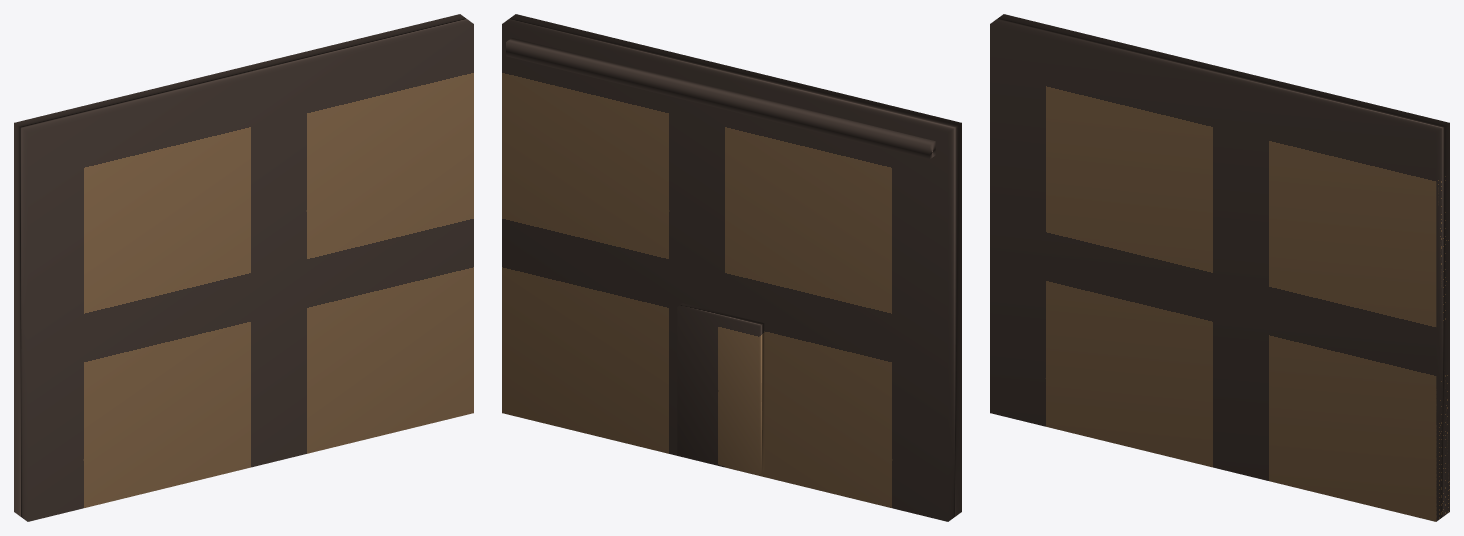
File: SM_Env_CairoFacade_A_LOD2.obj
3 views of the same model, side by side, from view 1: azimuth 30°, elevation 25°; view 2: azimuth 150°, elevation 25°; view 3: azimuth 330°, elevation 25° (orthographic).
Parts seen in each view (by area): view 1: SM_Env_CairoFacade_A_LOD2; view 2: SM_Env_CairoFacade_A_LOD2; view 3: SM_Env_CairoFacade_A_LOD2.
Boxes of the visible parts, x1,y1,x2,y2 form: SM_Env_CairoFacade_A_LOD2: [14, 14, 473, 521]; SM_Env_CairoFacade_A_LOD2: [502, 14, 961, 521]; SM_Env_CairoFacade_A_LOD2: [990, 14, 1449, 521].
Size of the model in its own units: 6 by 5 by 0.49.
Materials: 1 (1 with a texture image).
